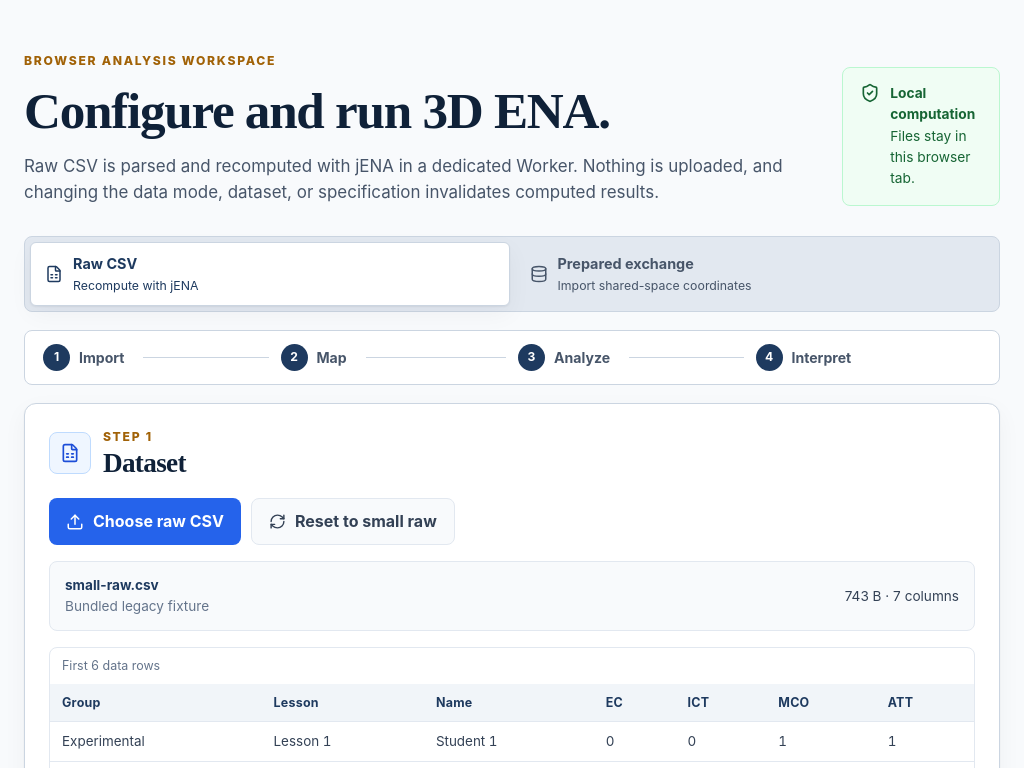
AnalysisWorkspace › ships no bundled prepared research-data entry point
This screenshot has width=1024, height=768.
Click the button with test id "analysis-mode-prepared": [626, 263] box [514,242,994,306]
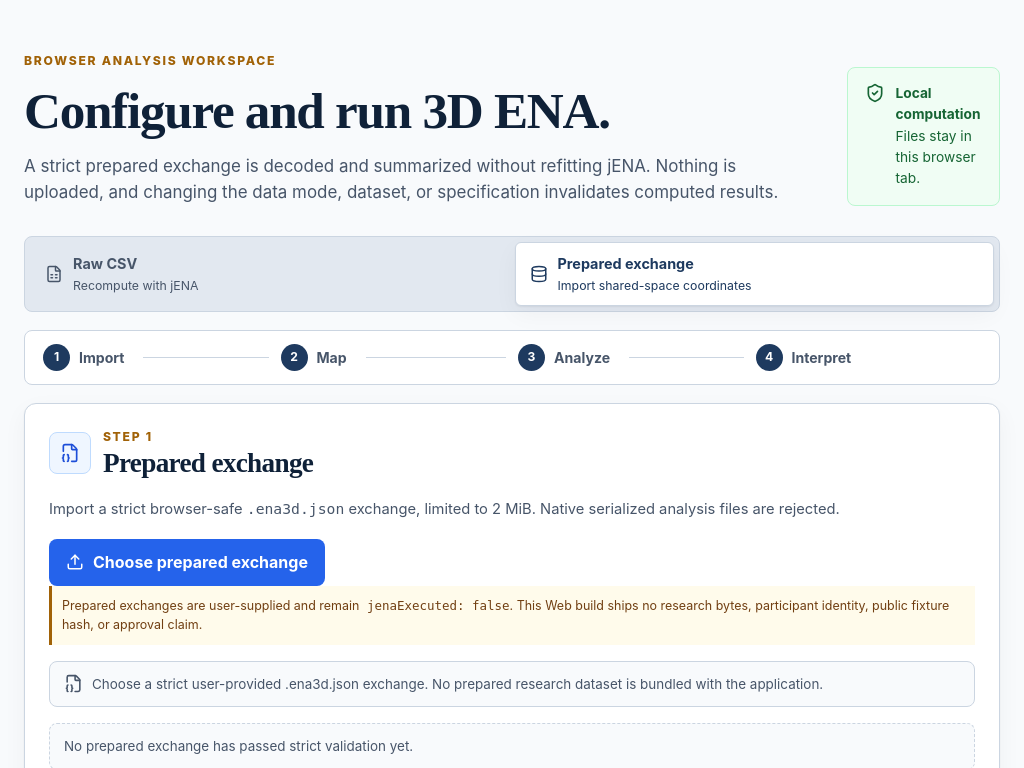
Now the text "ships no research bytes, participant identity" is shown, box [62,598,949,632]
